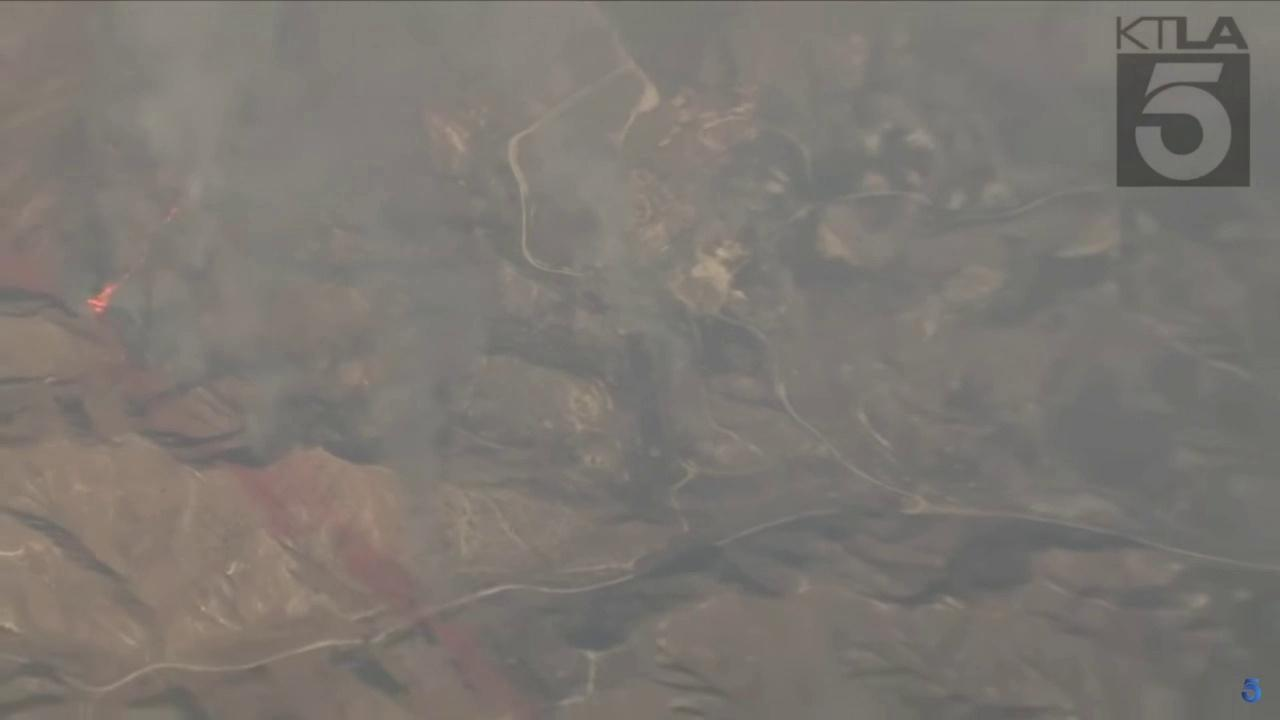fire: (82, 278, 122, 321)
smoke: (55, 0, 713, 607)
